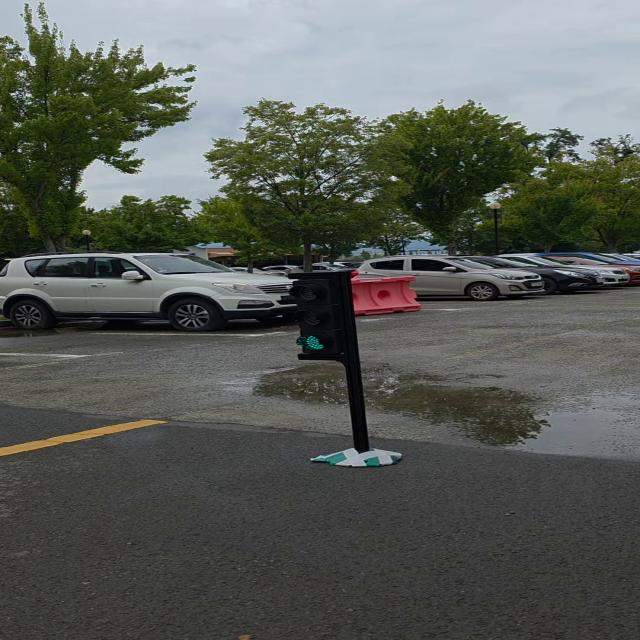green: (286, 272, 360, 364)
